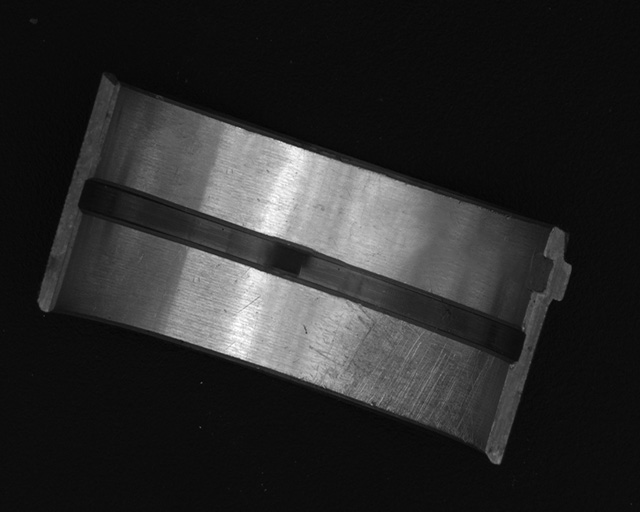gap: (78, 177, 525, 364)
scratch: (310, 298, 485, 439)
